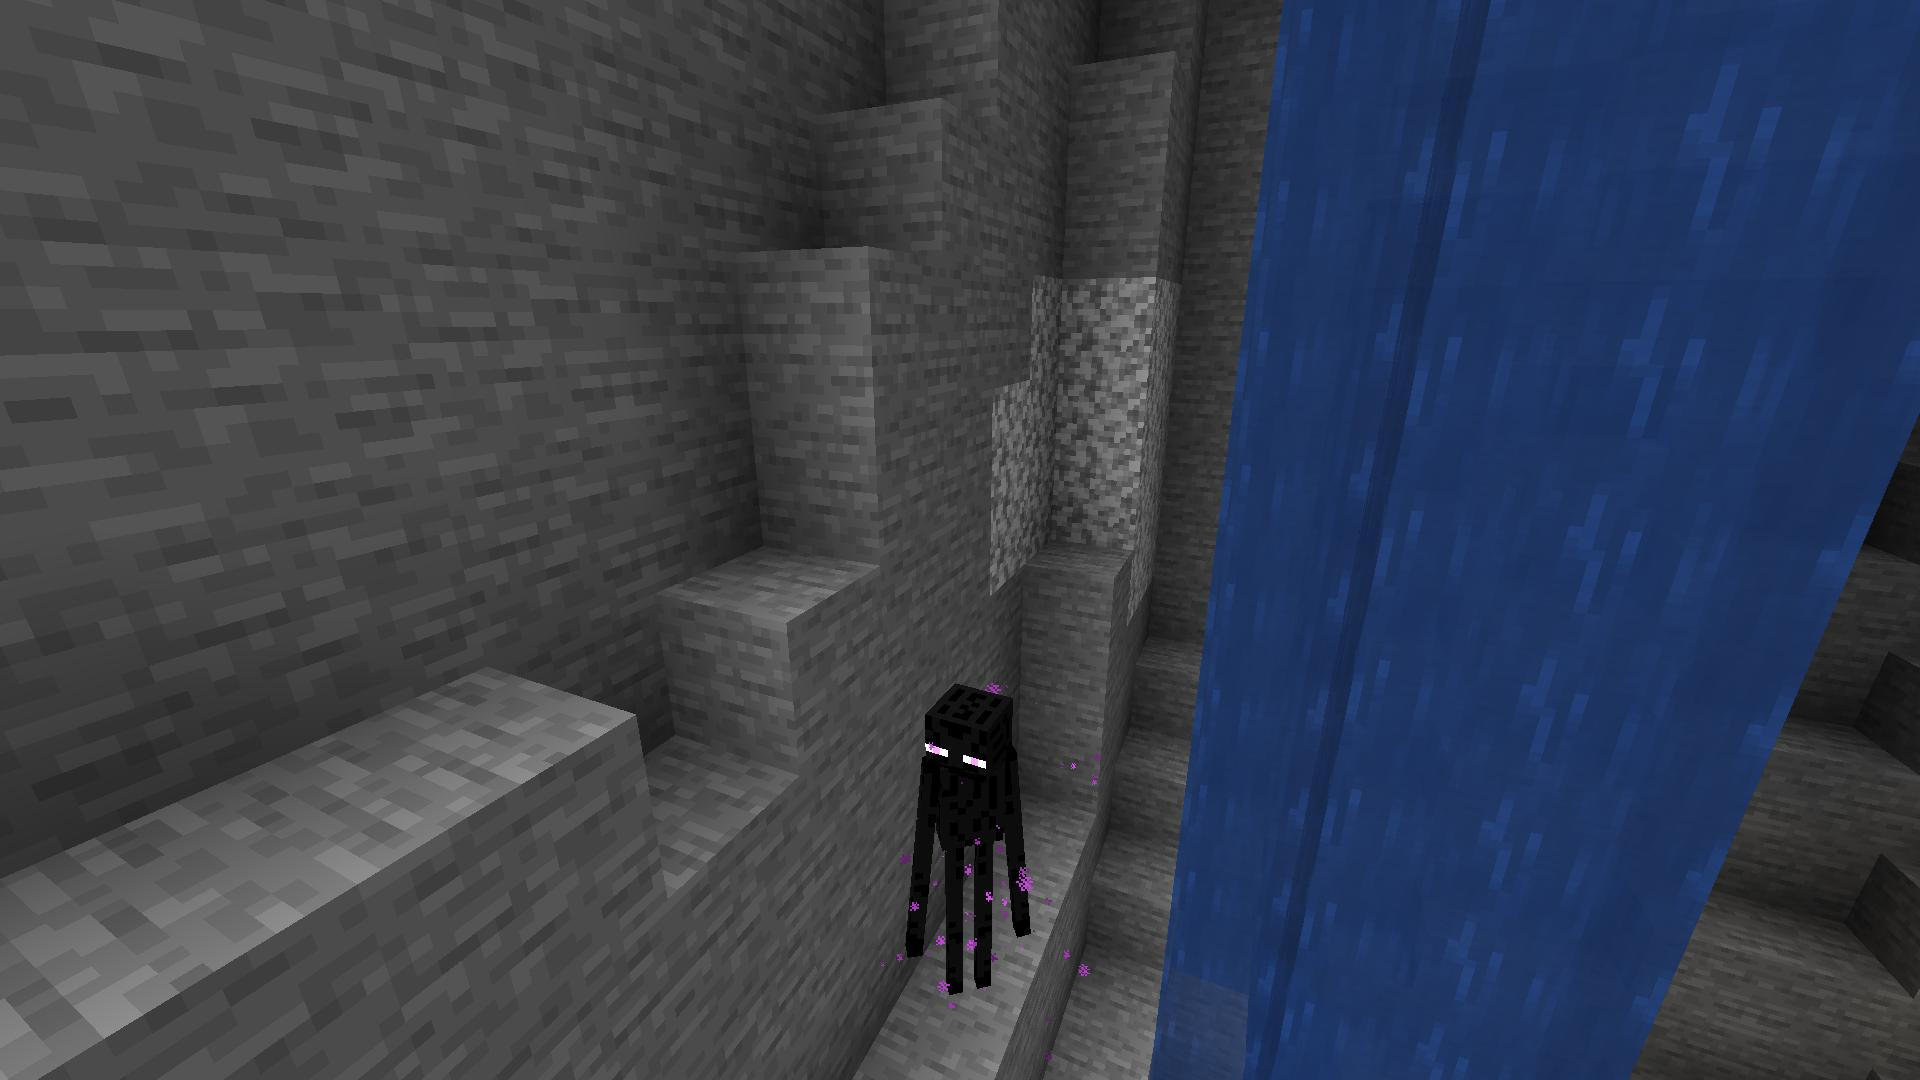enderman: (889, 666, 1051, 1023)
